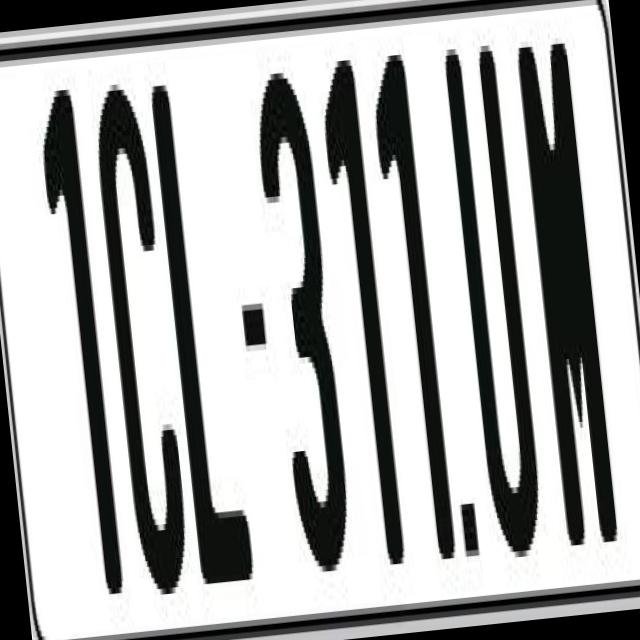1: (313, 59, 405, 602), (34, 71, 130, 578), (365, 54, 458, 561)
3: (250, 69, 362, 574)
C: (86, 76, 196, 620)
L: (144, 64, 252, 596)
M: (512, 25, 620, 534)
U: (442, 26, 550, 554)
